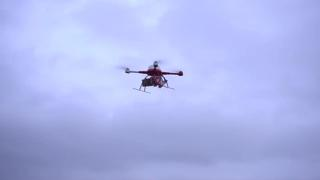UAV: (122, 60, 184, 94)
